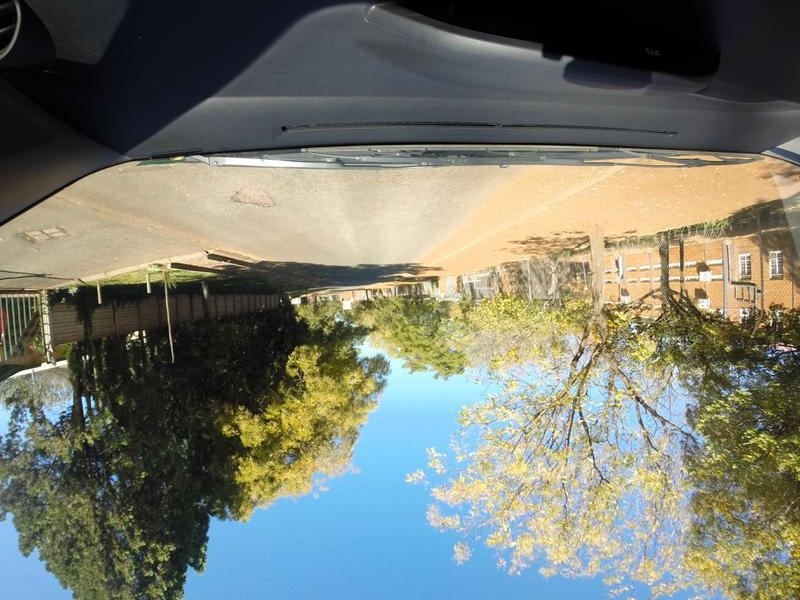pothole: (224, 180, 277, 211)
